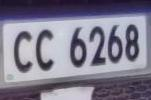2: (89, 20, 108, 72)
6: (67, 20, 90, 76), (106, 18, 125, 70)
8: (123, 20, 142, 65)
C: (34, 21, 60, 79), (11, 23, 37, 81)
